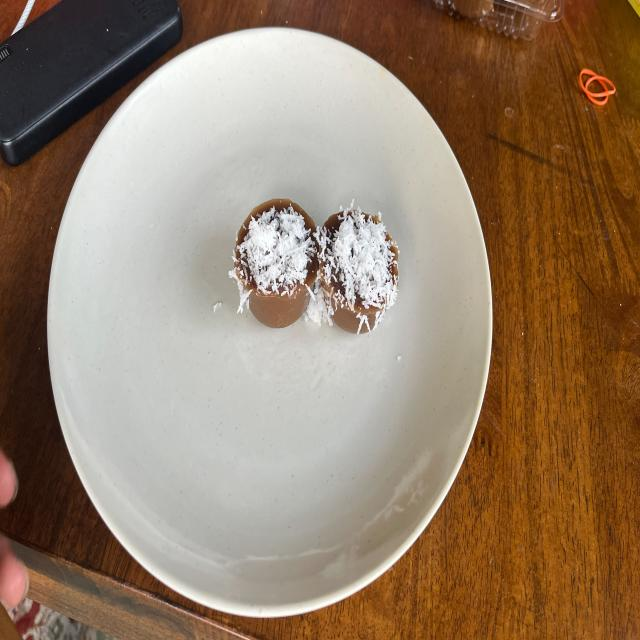Kuih lompang: (230, 198, 319, 329), (316, 200, 399, 333)
